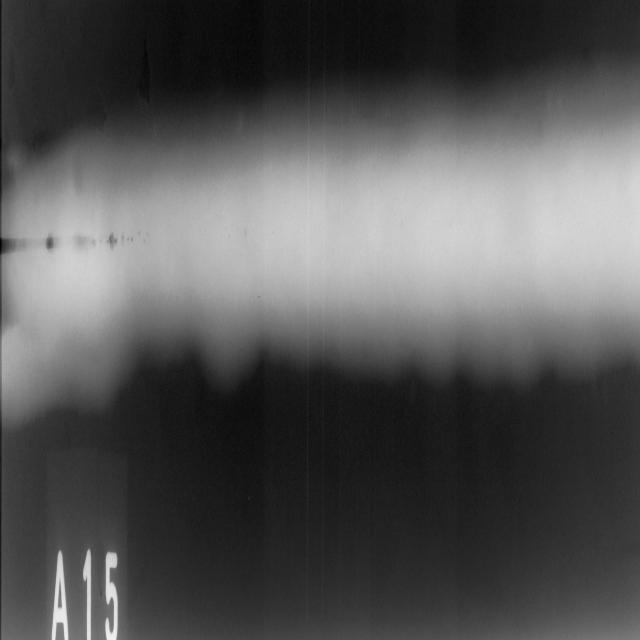FF: (114, 316, 428, 466), (12, 72, 74, 186)
FP: (0, 188, 163, 296)
